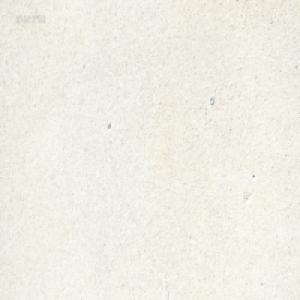Washer: (209, 95, 215, 105)
